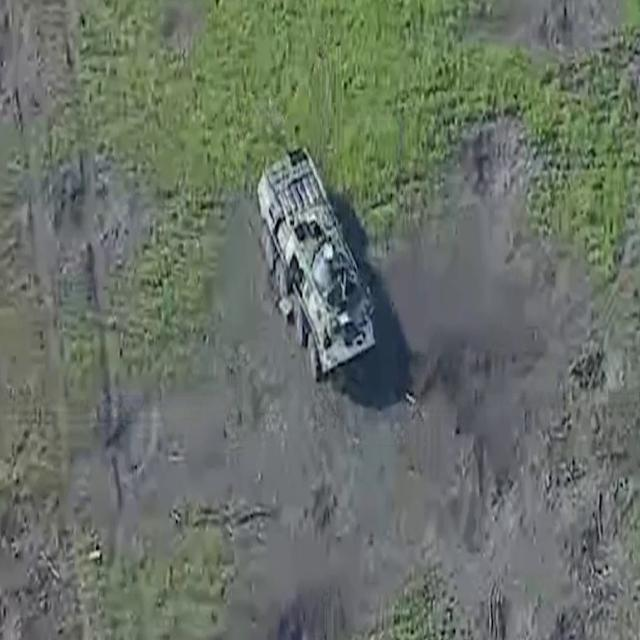APC: (249, 145, 380, 386)
